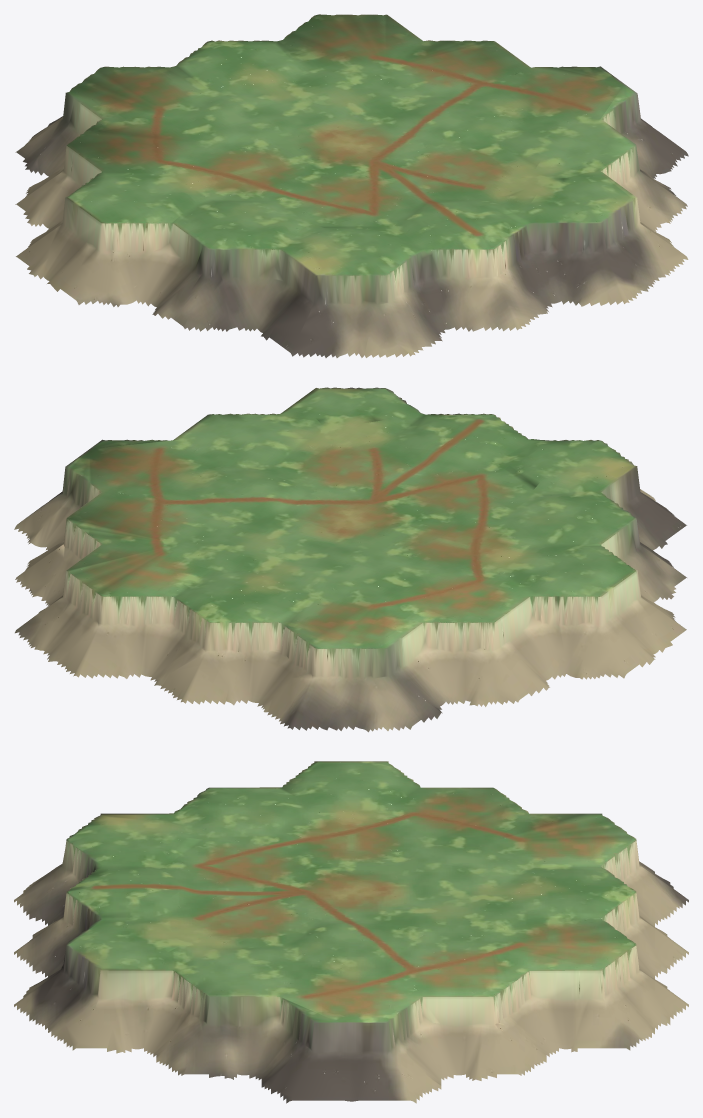
The model's file is terrain-wild.glb.
3 views of the same model, one above another, from view 1: azimuth 30°, elevation 25°; view 2: azimuth 150°, elevation 25°; view 3: azimuth 270°, elevation 25° (orthographic).
Visible parts, largest first — view 1: terrain-wild; view 2: terrain-wild; view 3: terrain-wild.
Part boxes in pixels (left/top/right/bottom): terrain-wild: left=15, top=14, right=688, bottom=357; terrain-wild: left=14, top=387, right=686, bottom=732; terrain-wild: left=14, top=761, right=688, bottom=1103.
Bounding box in the file's own units: 11.5 × 1.2 × 10.9.
Materials: 1 (1 with a texture image).
